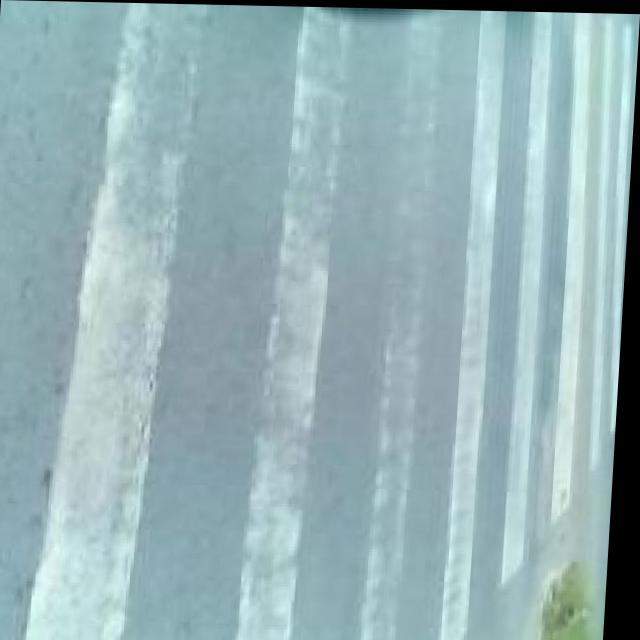zebra: (0, 12, 634, 595)
